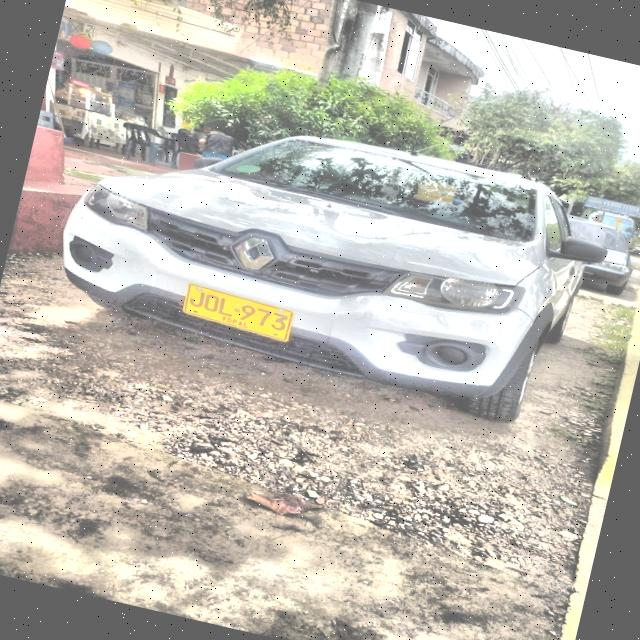plate: (183, 283, 292, 341)
